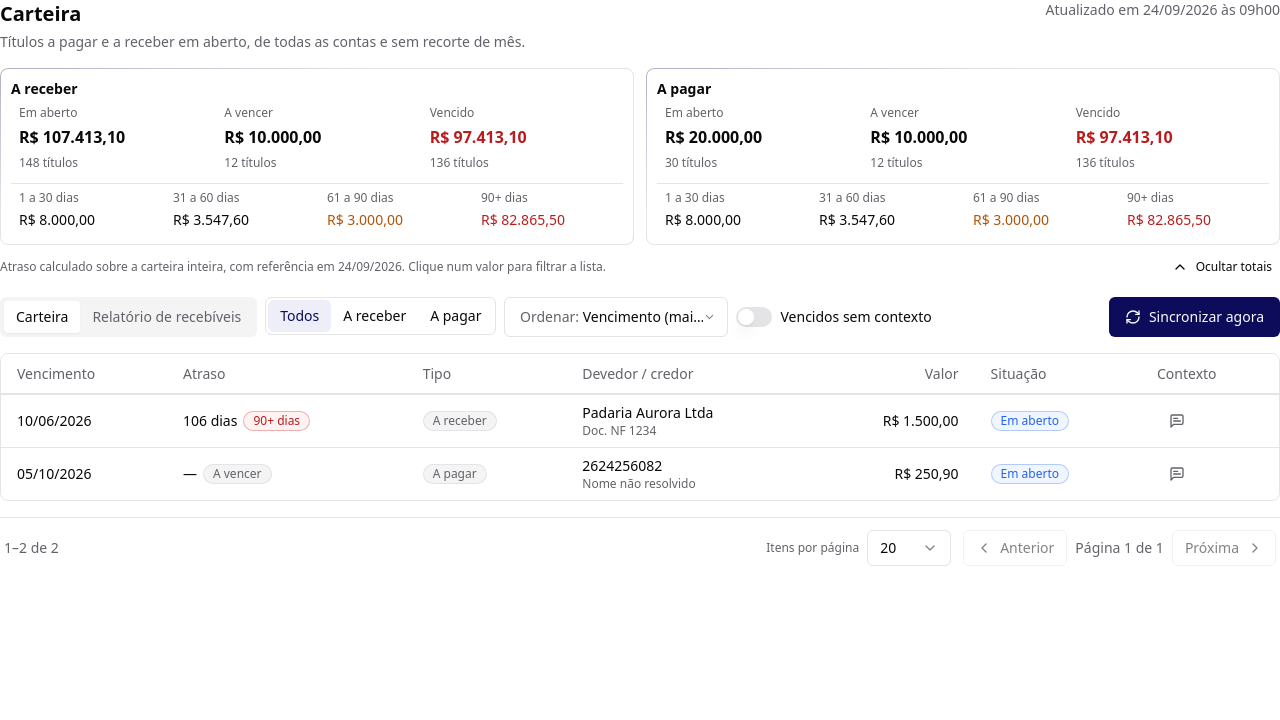
Test: ClientTitlesScreen — contexto do título (Sprint 15 / R1 · R2) › texto vazio é bloqueado pela validação do formulário (zod)
The width and height of the screenshot is (1280, 720).
Click the button named "Contexto do título 4010" at (1177, 420), box [1157, 404, 1197, 436]
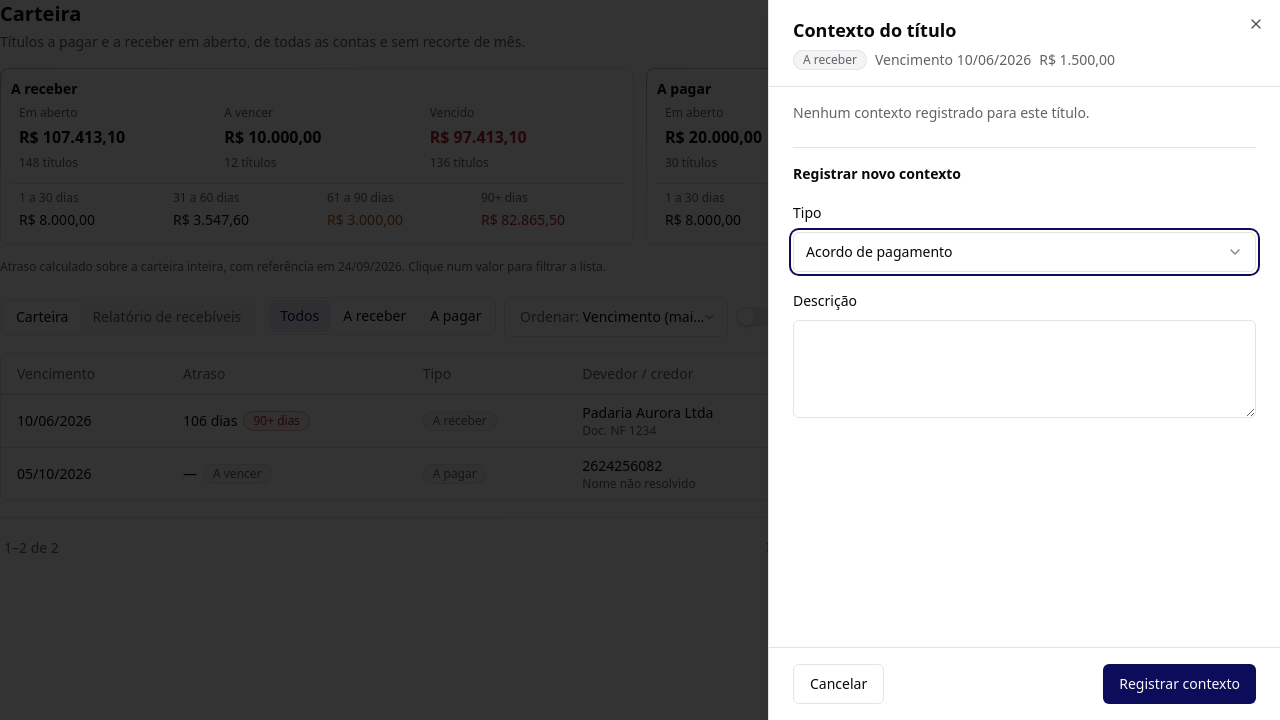
Click the button "Registrar contexto" at (1180, 684), box [1103, 664, 1256, 704]
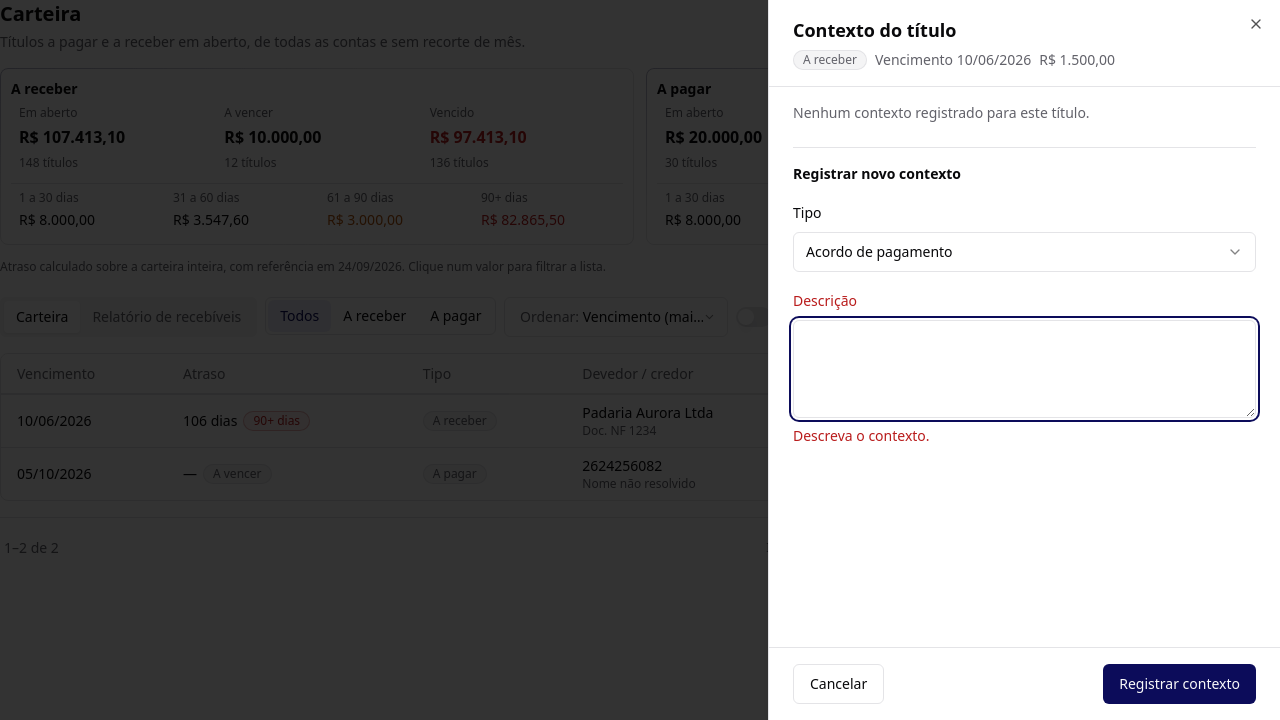
Expected: the text "Descreva o contexto." is shown, [793, 426, 930, 445]
